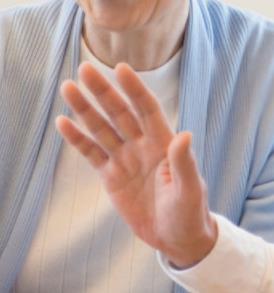down: (47, 56, 212, 252)
